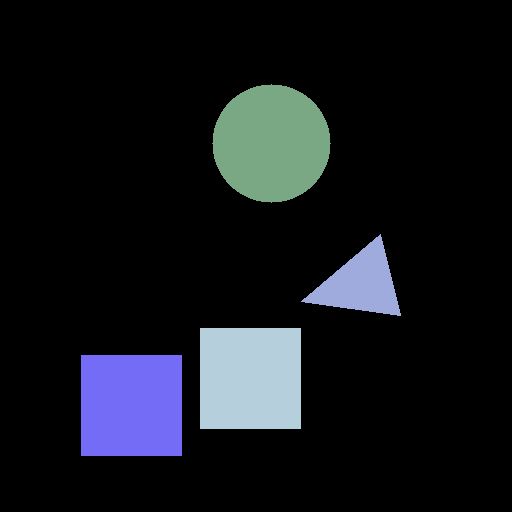circle: (212, 84, 330, 202)
square: (81, 355, 181, 455), (200, 328, 300, 428)
triangle: (301, 234, 400, 315)
